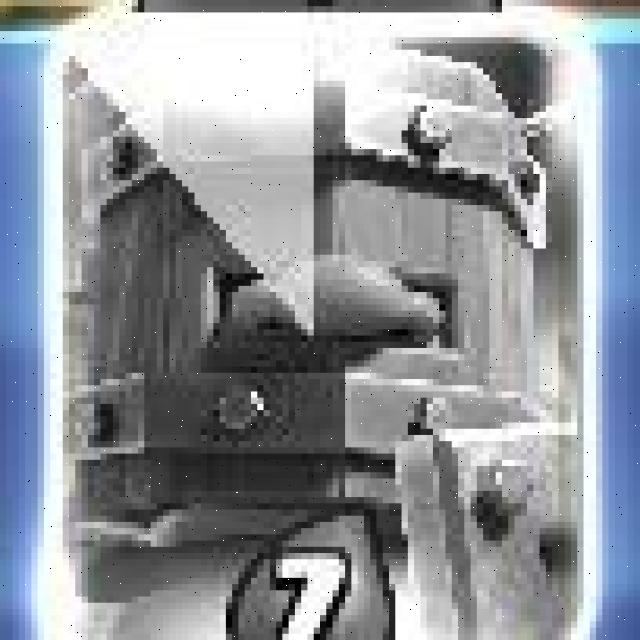Evolved_Recruits: (51, 18, 604, 640)
